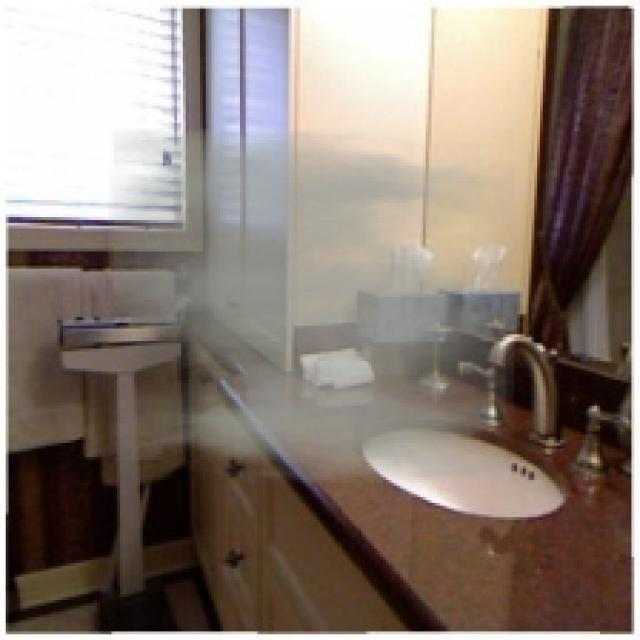Smoke: (108, 128, 514, 483)
